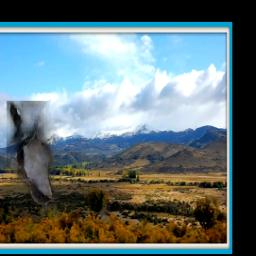Cuckoo: (7, 101, 60, 204)
